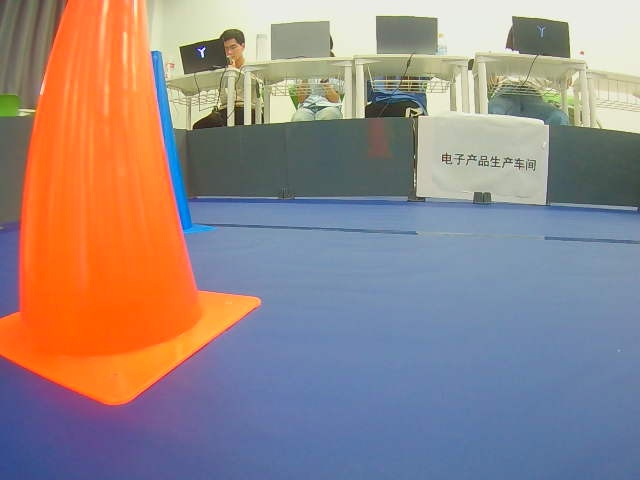target: (441, 151, 538, 171)
